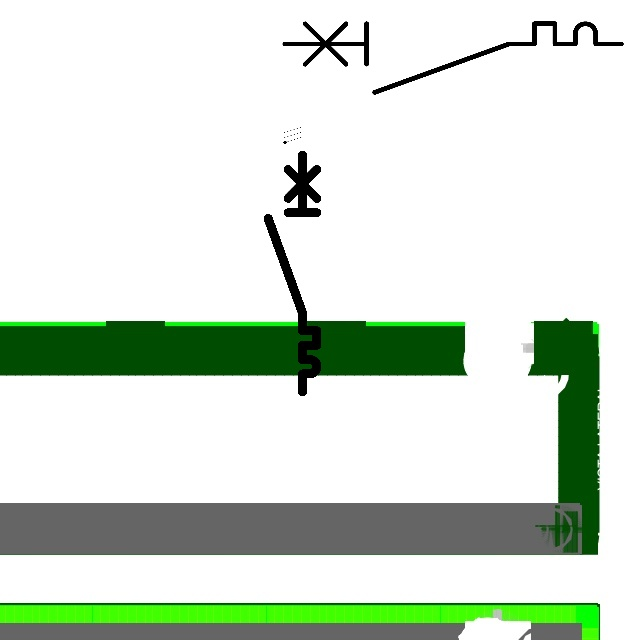interruptor_termomagnetico: (276, 15, 630, 101), (262, 149, 323, 398)
